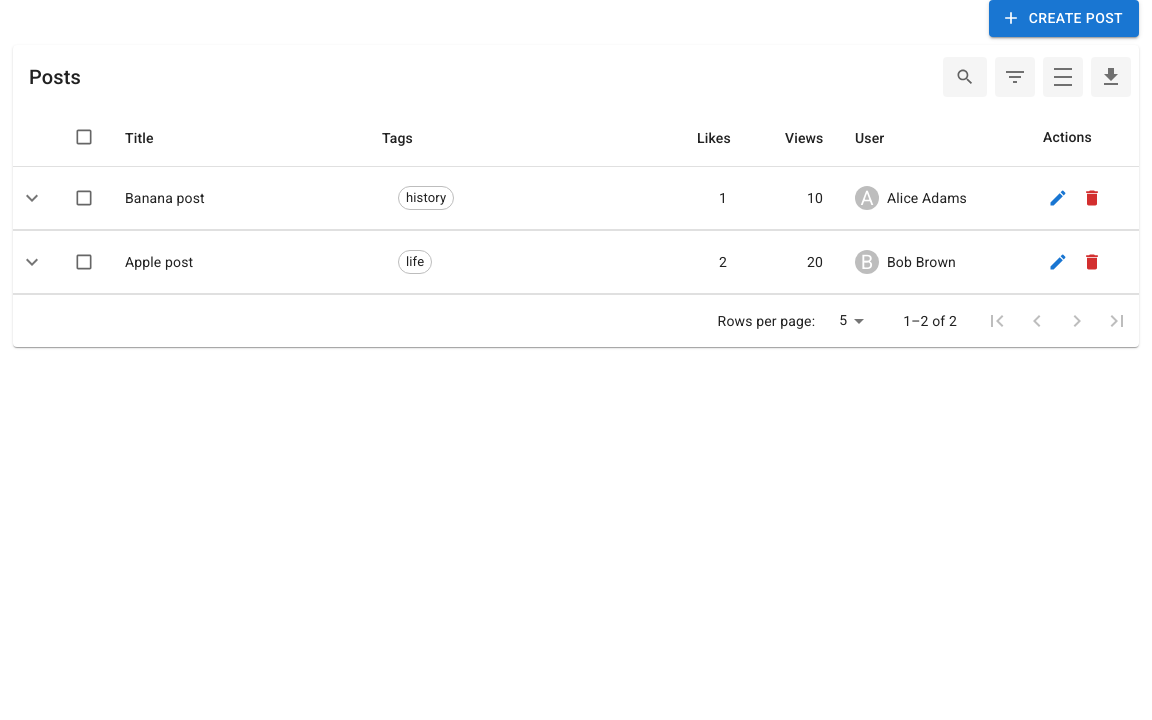
Test case: PostsTable › deletes a post after confirmation
Expected: the column heading "Banana post" is shown, [109,167,382,230]
Click the button named "delete post" in the row of "Banana post" at [1092, 198], box [1077,183,1107,213]
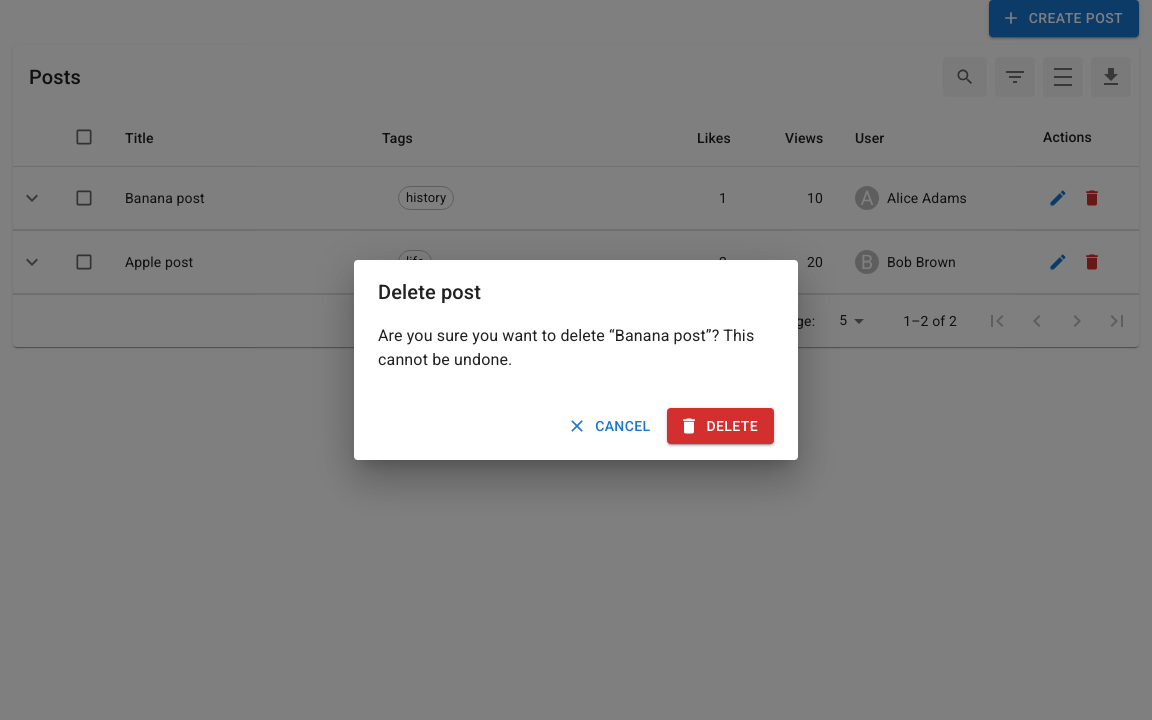
Result: the text "Are you sure" is shown at [378,326,615,345]
Click the button "Delete" at [720, 426], box [666,408,774,444]
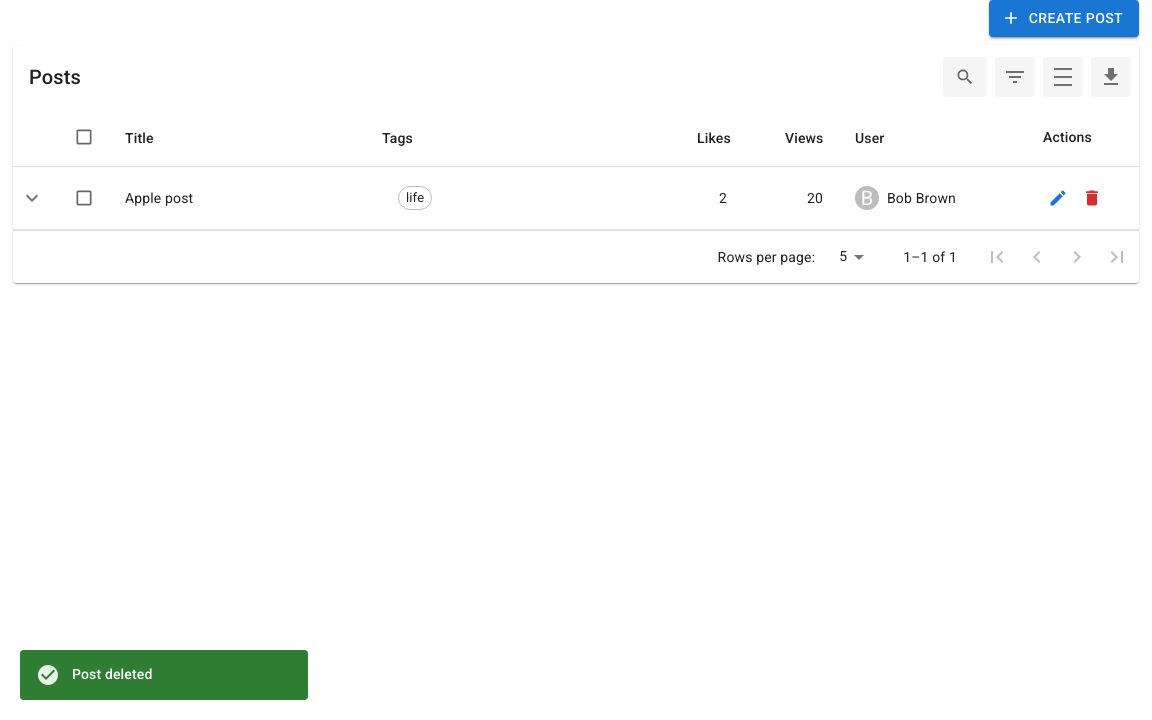
Result: the checkbox "Banana post" is gone
Result: the text "Post deleted" is shown at [72,666,152,682]
Result: the icon with test id "CheckCircleIcon" is shown at [36,663,60,687]
